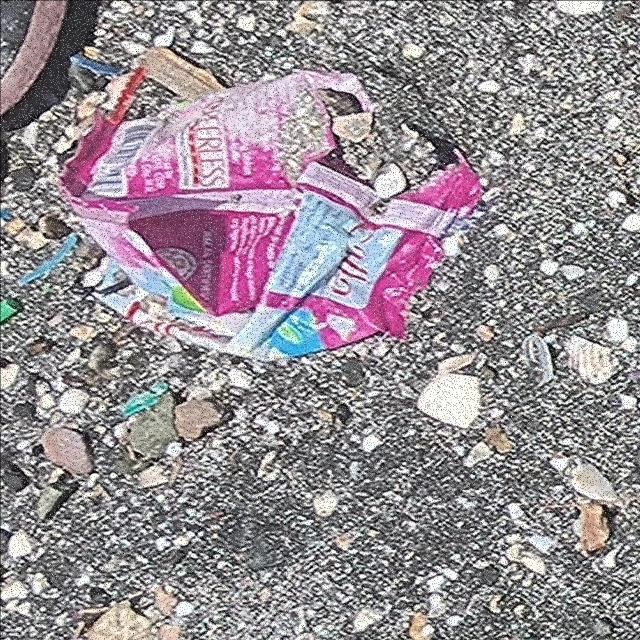plastic_waste: (56, 65, 489, 365)
